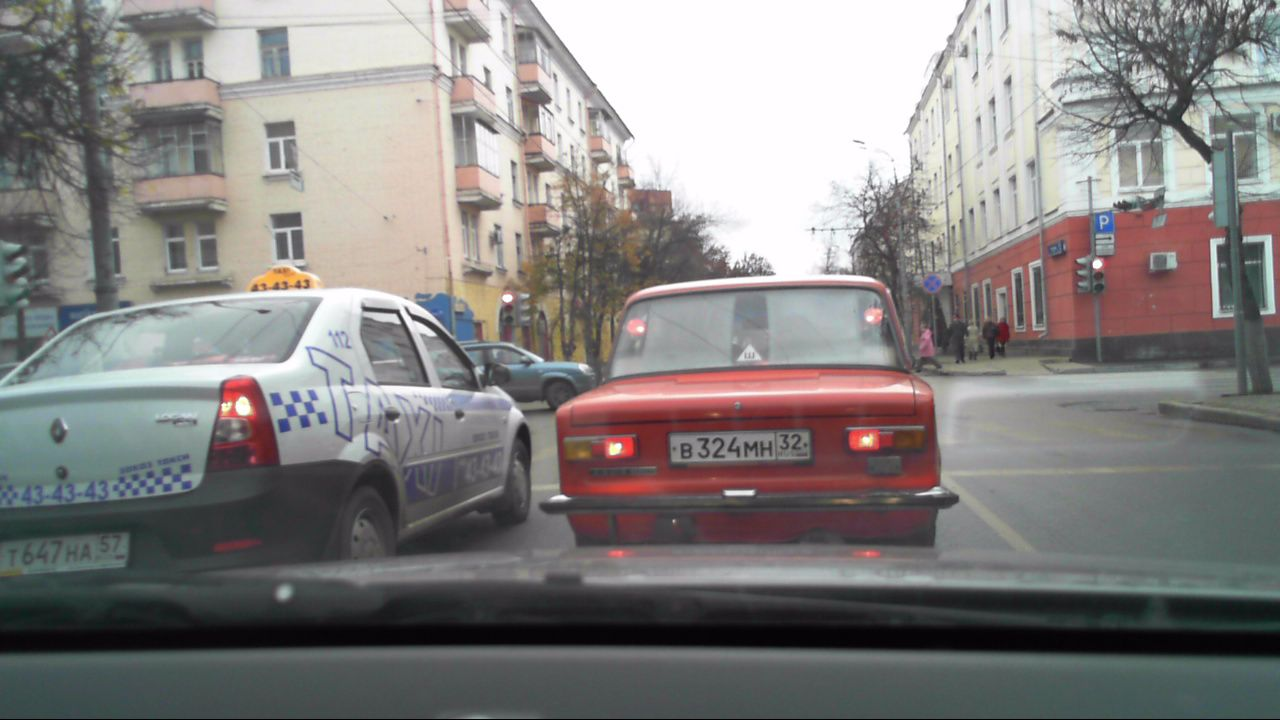No Parking: (920, 271, 944, 294)
